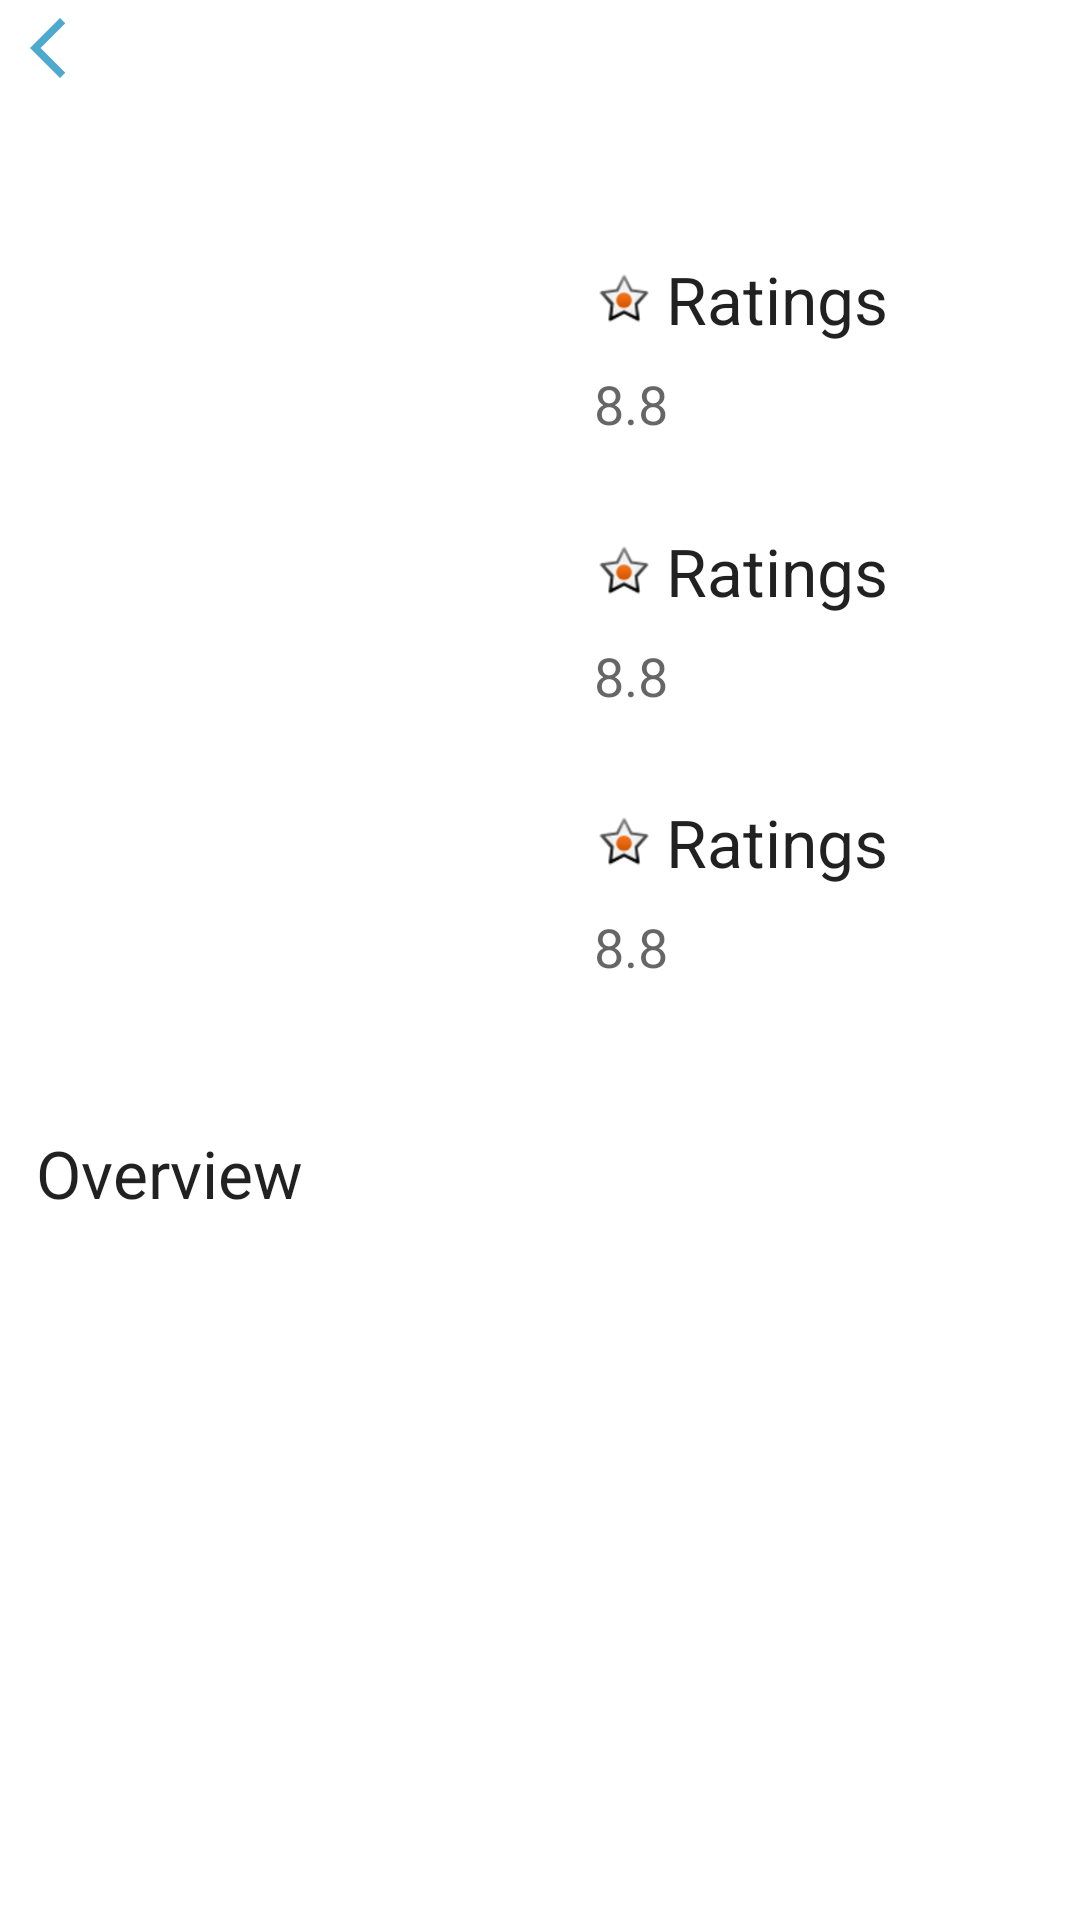

Icon bounding boxes for this 1080px x 1920px phone screenshot, format [x1,y1,x2,y2]:
back: [30,18,65,78]
star on: [599,275,649,322], [599,547,649,594], [599,818,649,865]
